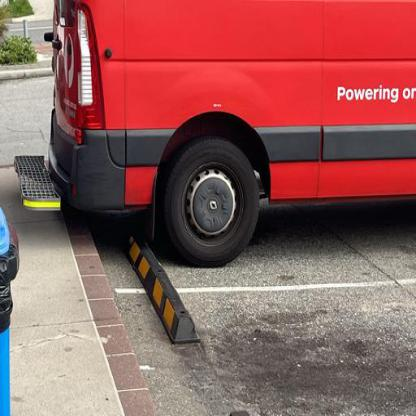Tire: (162, 137, 261, 268)
